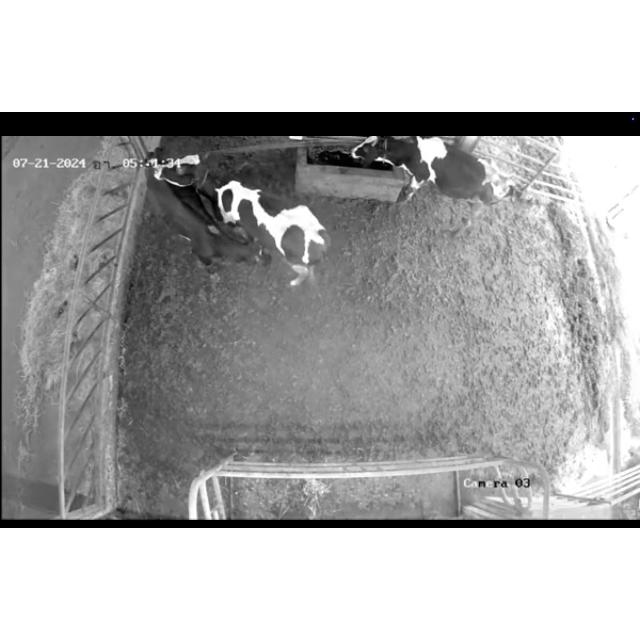drink: (342, 134, 416, 178)
propping: (140, 148, 226, 202)
